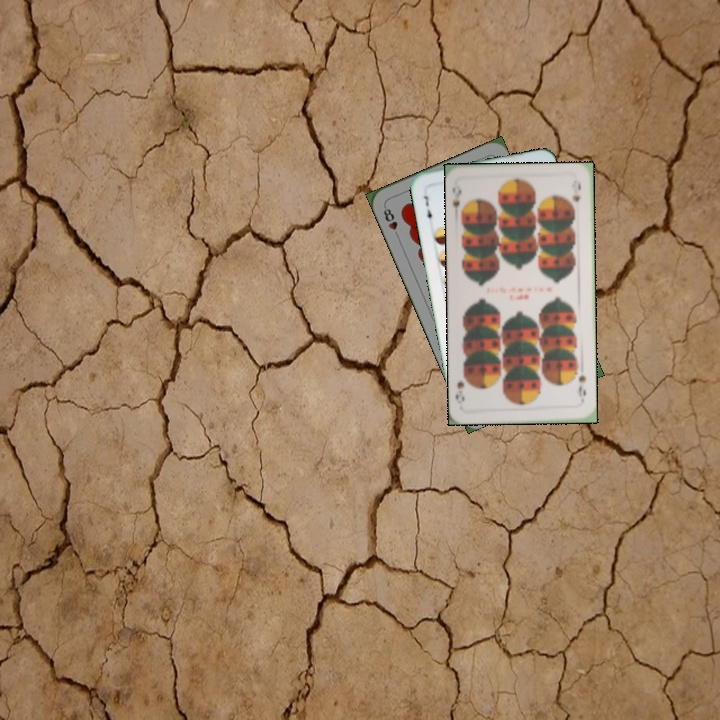E7: (420, 191, 435, 226)
H8: (379, 202, 402, 241)
S9: (448, 180, 464, 220), (575, 370, 588, 406)
